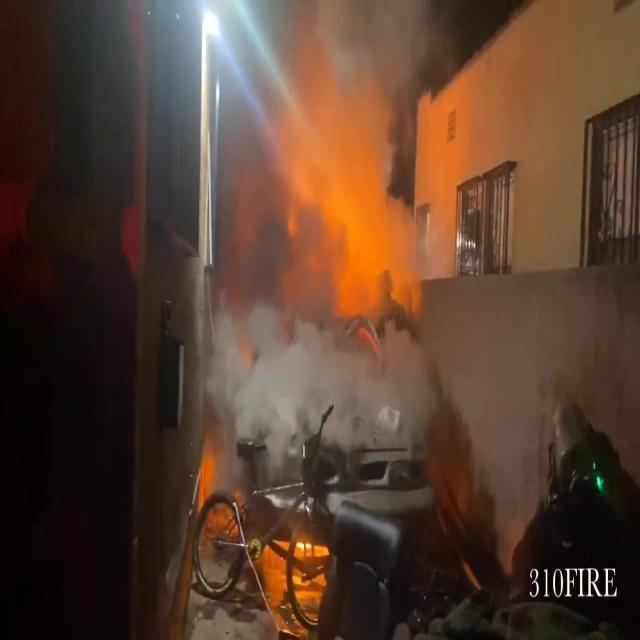Smoke: (196, 0, 453, 428)
